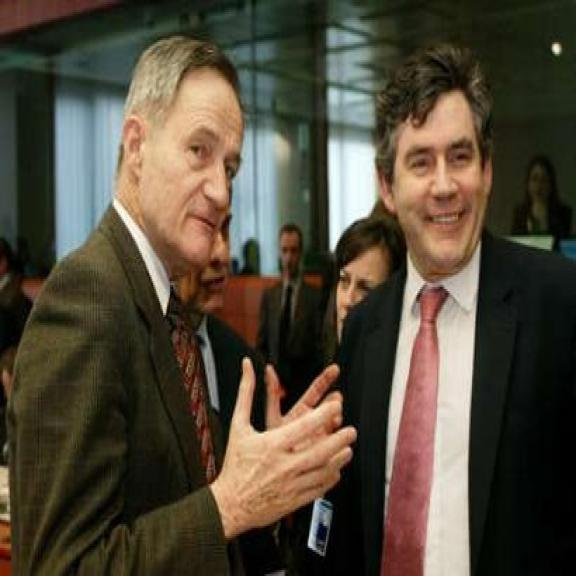face: (121, 61, 248, 265), (377, 88, 495, 274), (334, 240, 390, 356), (200, 186, 236, 314), (526, 164, 557, 207), (281, 226, 303, 278)
